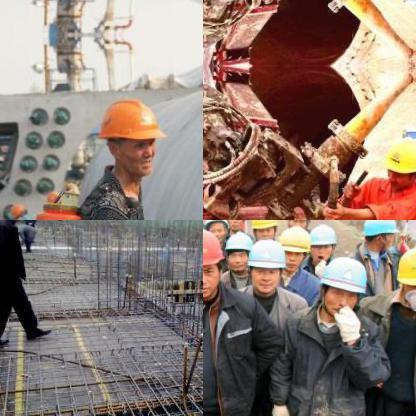Helmet: (90, 88, 166, 178), (316, 251, 366, 313), (246, 237, 286, 290), (381, 131, 415, 190), (279, 223, 311, 270), (223, 226, 252, 272), (307, 220, 337, 263), (394, 244, 416, 300), (360, 220, 397, 251), (203, 230, 216, 295), (248, 220, 278, 240), (203, 220, 228, 239), (283, 220, 313, 232), (225, 220, 249, 232)
